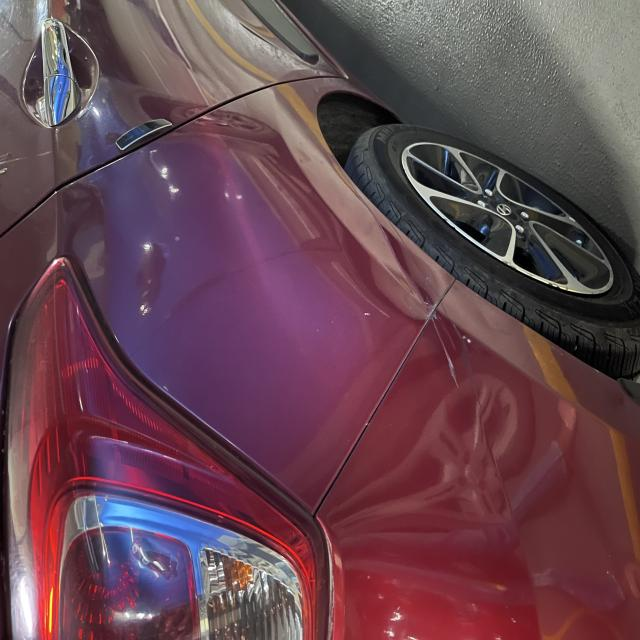scratch: (182, 558, 272, 633)
